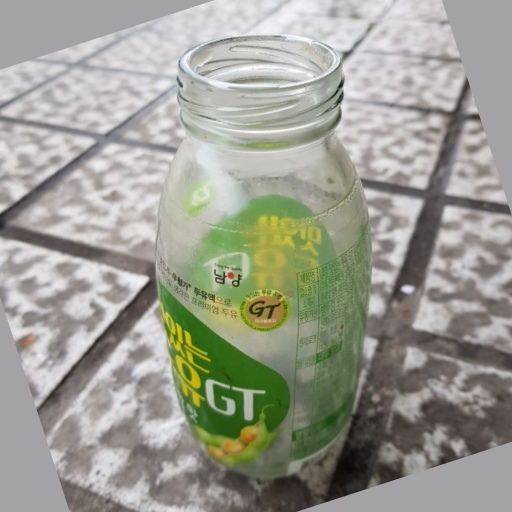Glass_4: (149, 34, 373, 483)
